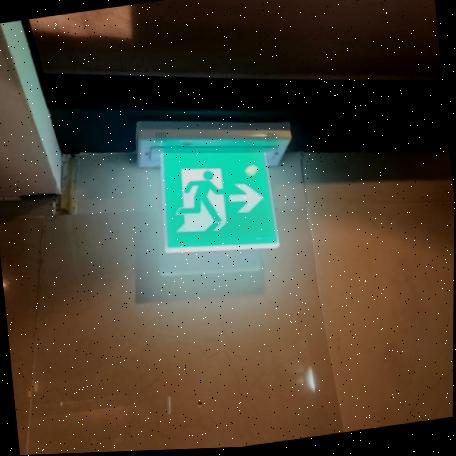emergency_exit: (159, 147, 280, 253)
